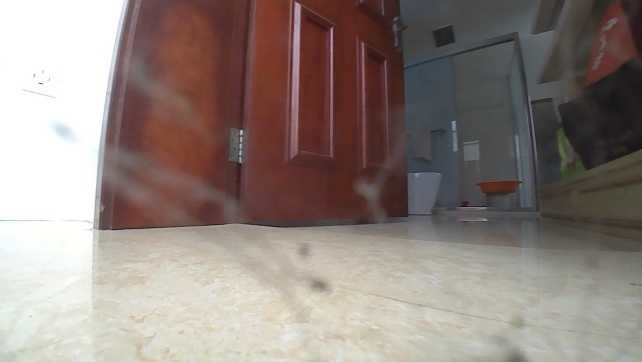door_anno: (203, 0, 415, 227)
toilet: (408, 165, 445, 217)
